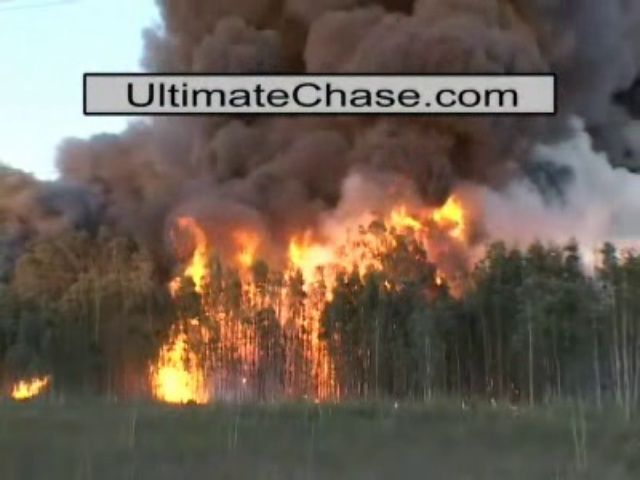fire: (271, 231, 362, 292), (391, 191, 475, 240), (145, 354, 210, 402)
